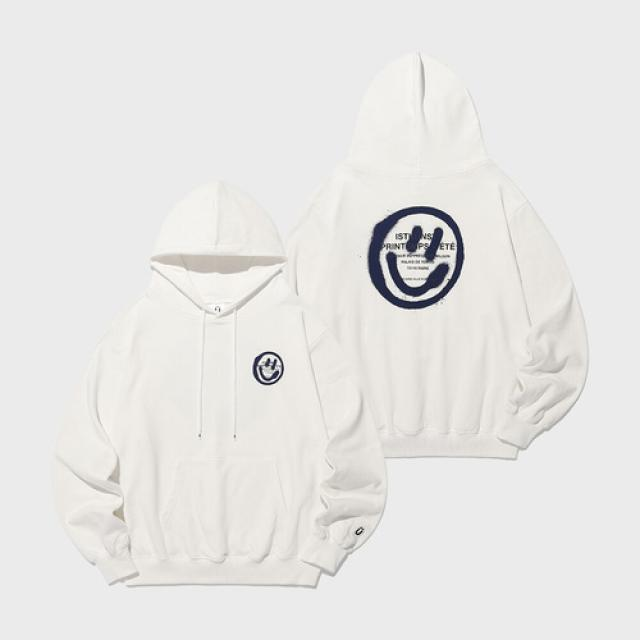Blouse_deep: (46, 142, 402, 610)
